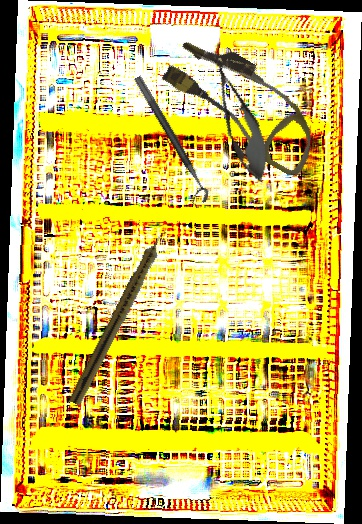Cannula: (151, 27, 336, 180)
Fixation Ring: (123, 74, 213, 209)
Handpiece: (68, 227, 172, 408)
Micro Scissor: (197, 45, 279, 188)
